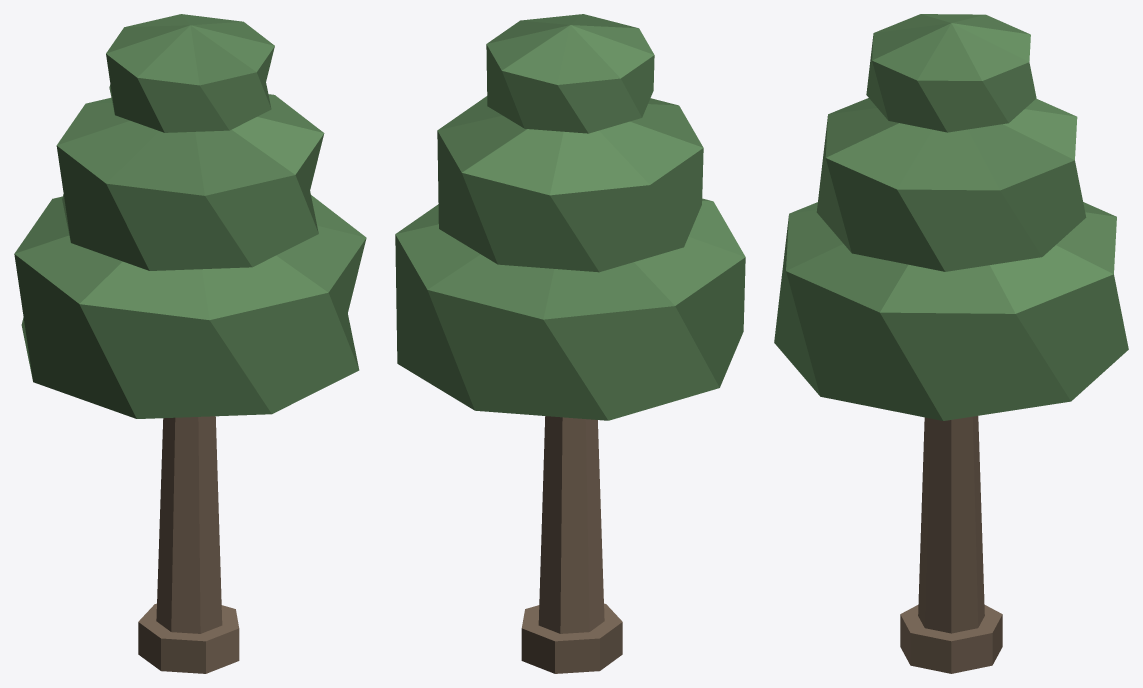
The model's file is SM_Kit_arvore_c.fbx.
The picture shows the model from 3 angles, left to right: view 1: azimuth 30°, elevation 25°; view 2: azimuth 150°, elevation 25°; view 3: azimuth 270°, elevation 25°; orthographic projection.
Parts seen in each view (by area): view 1: SM_Kit_arvore_c; view 2: SM_Kit_arvore_c; view 3: SM_Kit_arvore_c.
Part boxes in pixels (left/top/right/bottom): SM_Kit_arvore_c: left=14, top=14, right=366, bottom=673; SM_Kit_arvore_c: left=395, top=14, right=745, bottom=673; SM_Kit_arvore_c: left=774, top=14, right=1128, bottom=673.
Size of what is drawn, in the model's own units: 216 by 423 by 216.
